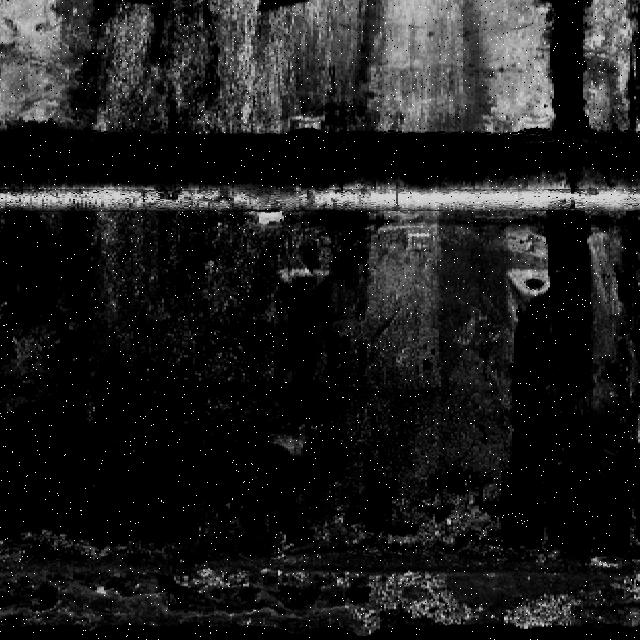leakage: (1, 212, 375, 544), (501, 213, 640, 558), (51, 1, 379, 134), (531, 1, 602, 146), (622, 4, 640, 138)
